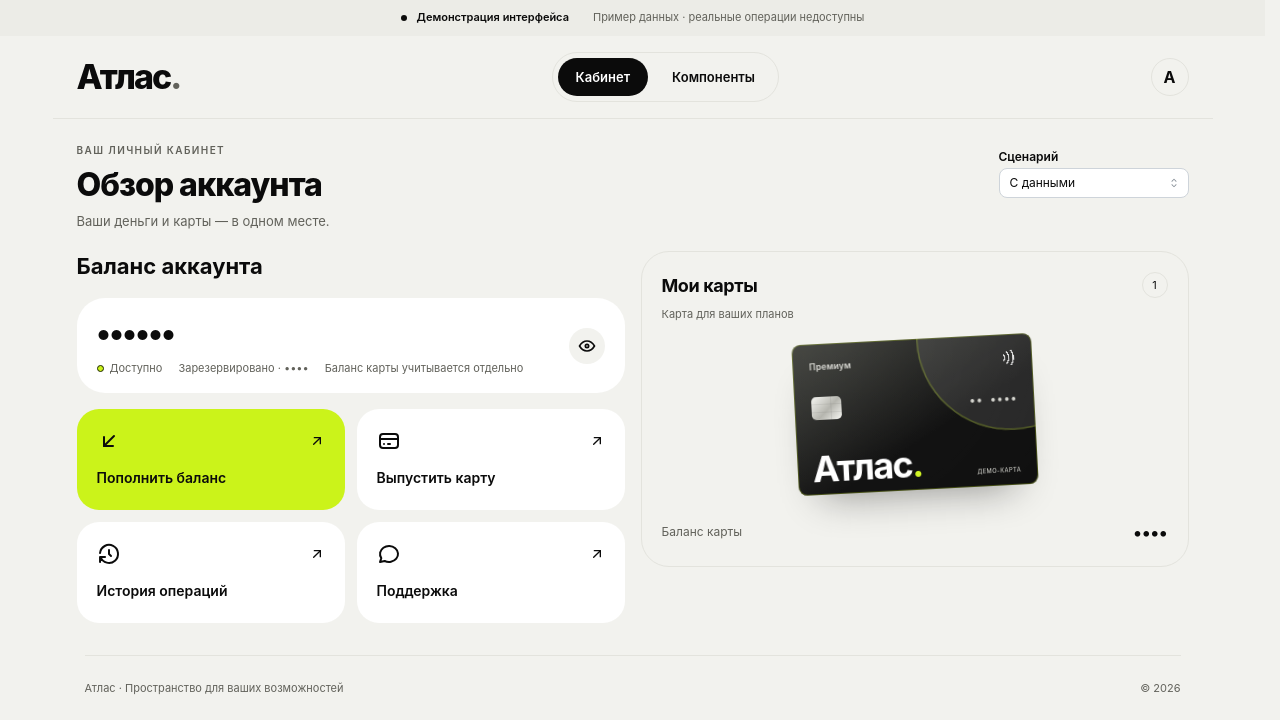
Test case: PreviewDashboard › hides account amounts until requested and opens an honest preview action dialog
This screenshot has width=1280, height=720.
Click the button named "Показать баланс": (586,346) [568,328,604,364]
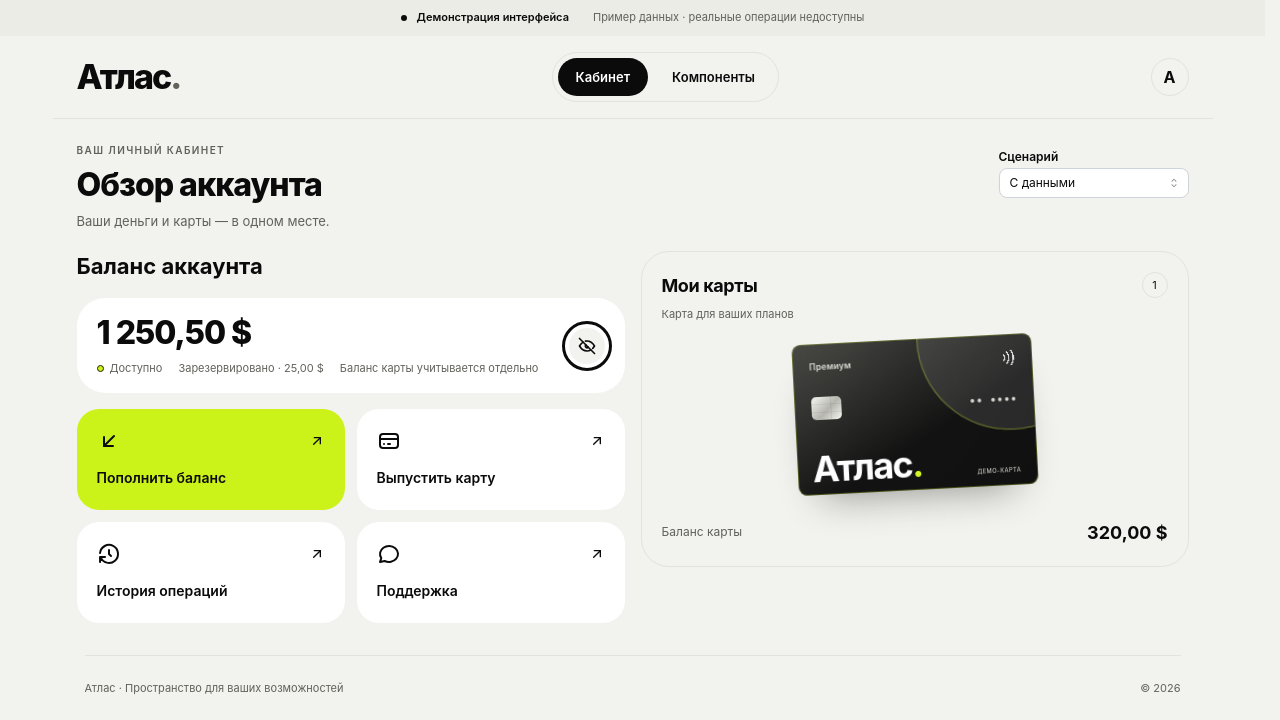
Now the text "1 250,50 $" is shown, box [96,313,251,352]
Click the button "Пополнить баланс": (161,478) [76,410,344,510]
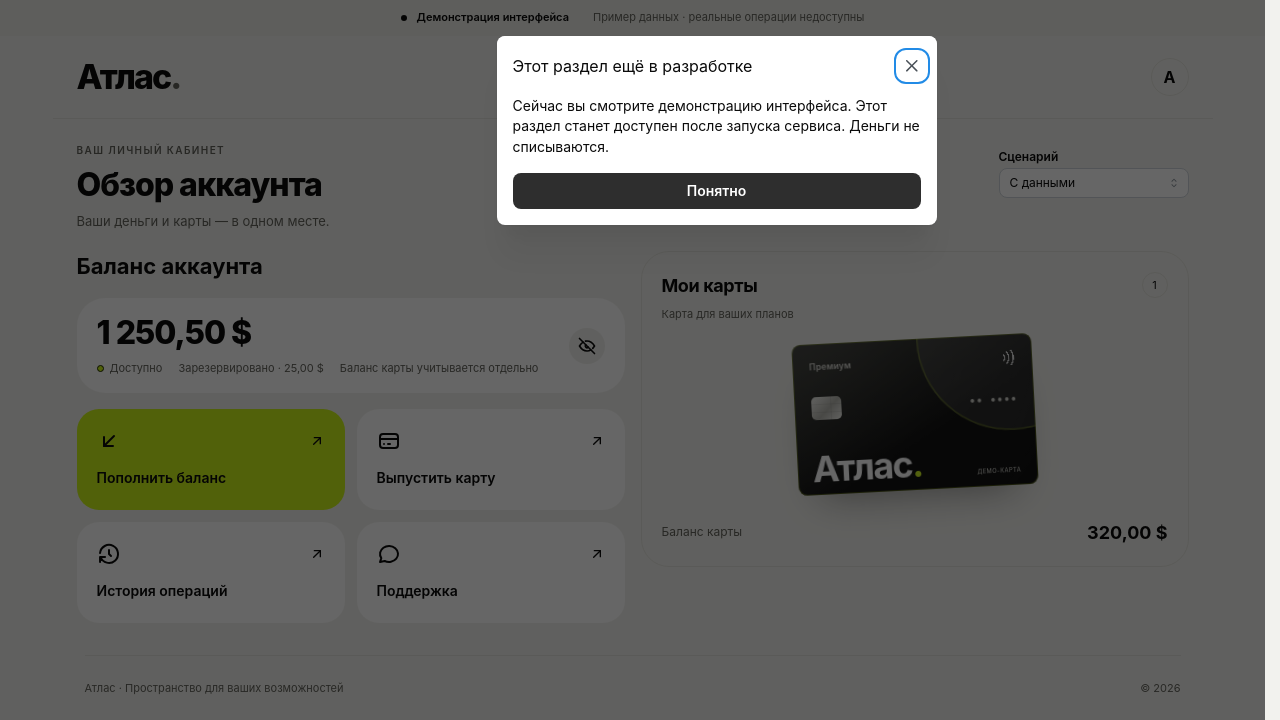
Now the dialog shows "Деньги не списываются", box [512,97,920,155]
Press Escape
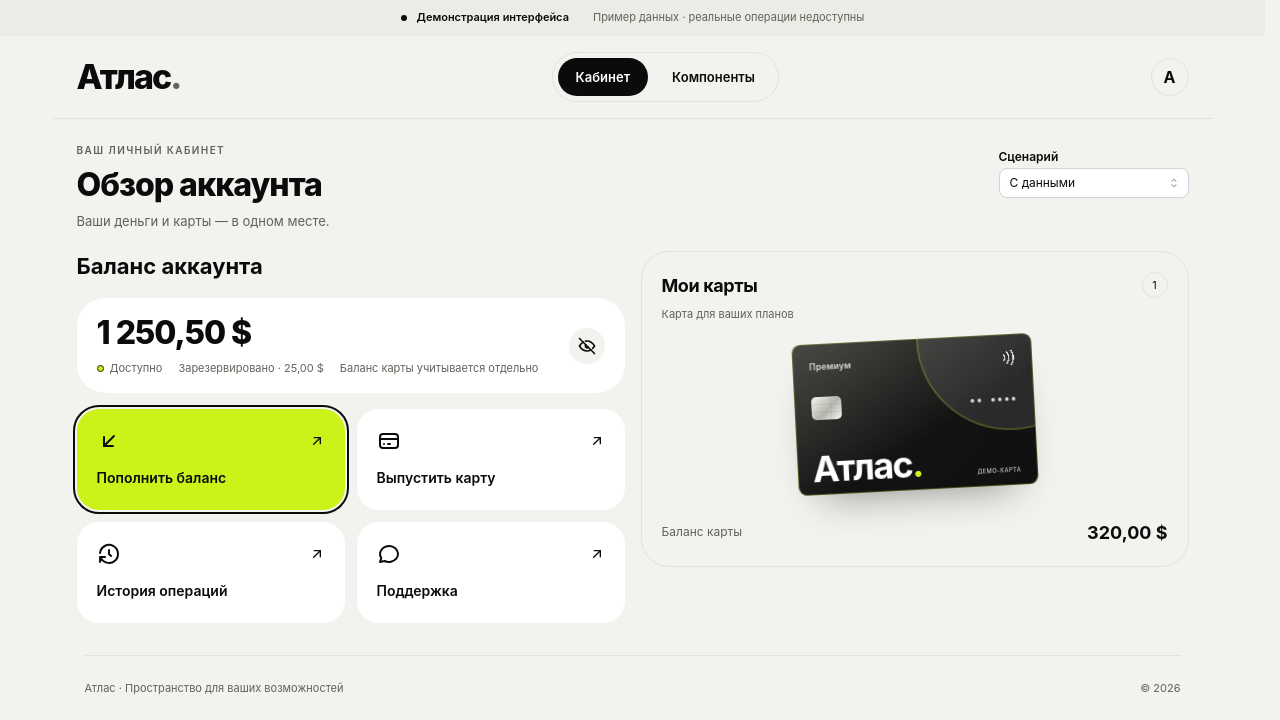
Now the dialog is gone
